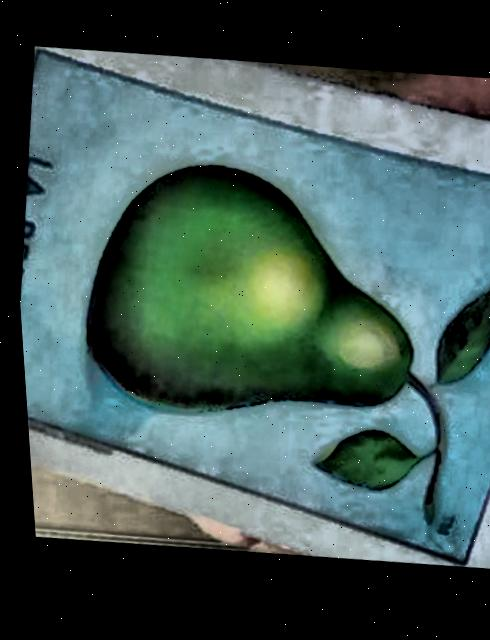La Pera: (16, 49, 490, 565)
